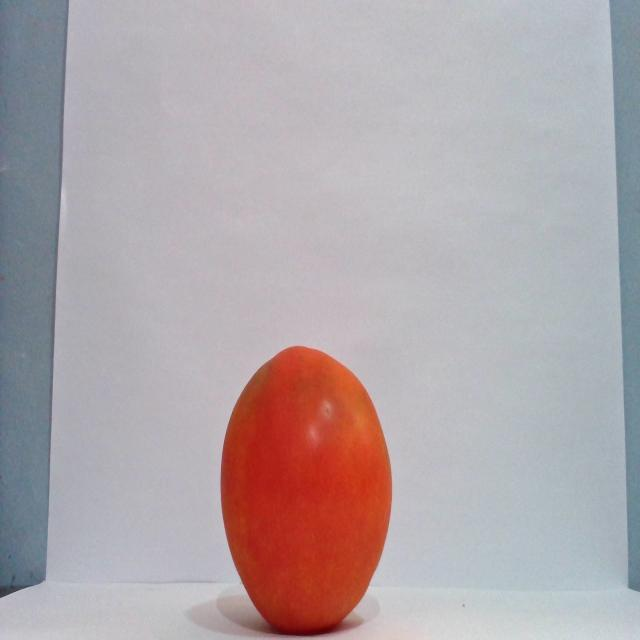Red: (218, 343, 393, 634)
